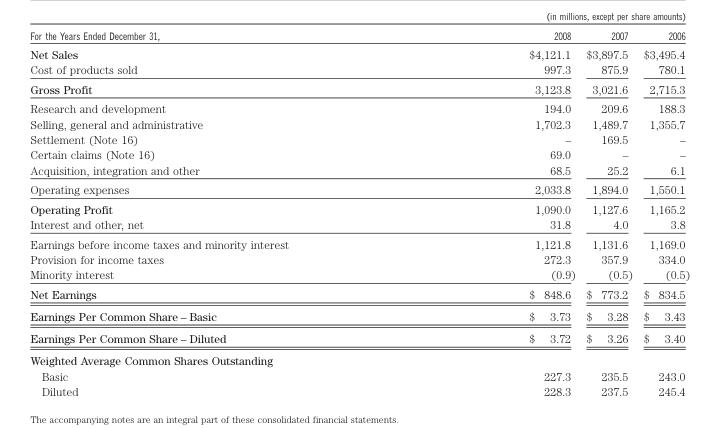table: (29, 28, 689, 397)
table column: (29, 28, 408, 397), (408, 28, 580, 397), (580, 28, 637, 397), (637, 28, 689, 397)
table column header: (29, 28, 689, 44)
table projected row header: (29, 349, 689, 367)
table row: (29, 326, 689, 349), (29, 304, 689, 326), (29, 283, 689, 304), (29, 79, 689, 98), (29, 179, 689, 198), (29, 61, 689, 79), (29, 98, 689, 116), (29, 198, 689, 216), (29, 233, 689, 251), (29, 349, 689, 367), (29, 44, 689, 61), (29, 162, 689, 179), (29, 216, 689, 233), (29, 266, 689, 283), (29, 28, 689, 44), (29, 146, 689, 162), (29, 367, 689, 383), (29, 116, 689, 131), (29, 131, 689, 146), (29, 251, 689, 266), (29, 383, 689, 397)
